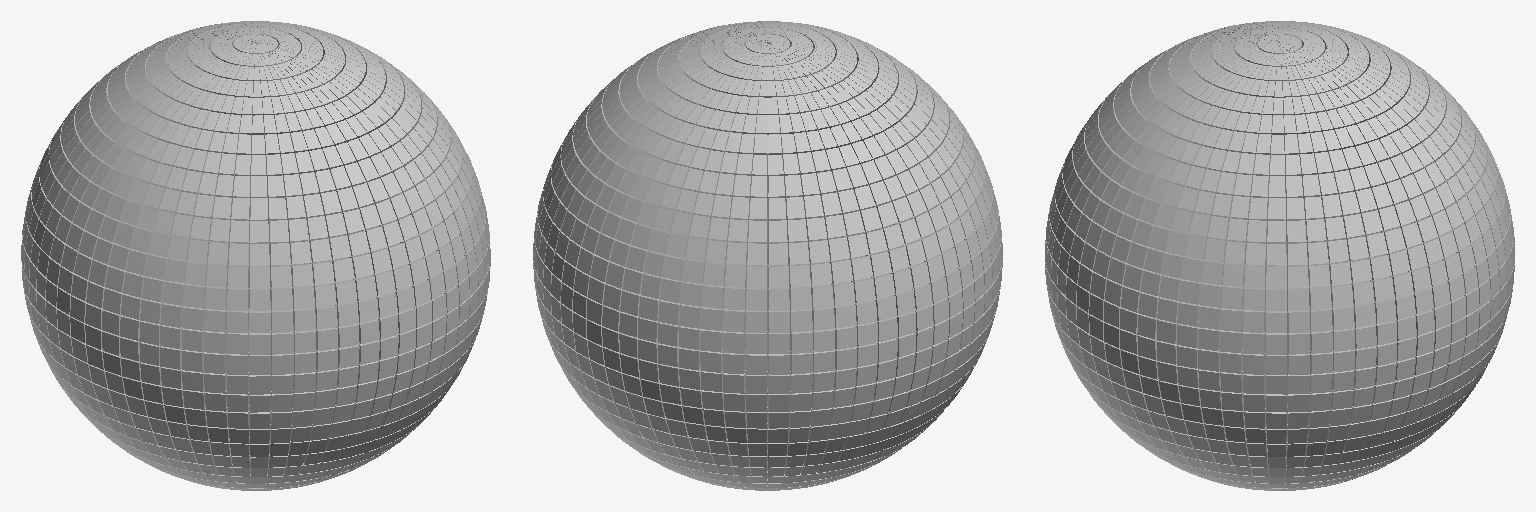
The model's file is Disco ball.obj.
The picture shows the model from 3 angles: view 1: azimuth 30°, elevation 25°; view 2: azimuth 150°, elevation 25°; view 3: azimuth 270°, elevation 25°; orthographic projection.
Parts seen in each view (by area): view 1: Sphere001; view 2: Sphere001; view 3: Sphere001.
Part boxes in pixels (x1,y1,x2,y2): Sphere001: (21, 21, 490, 490); Sphere001: (533, 21, 1002, 490); Sphere001: (1045, 21, 1514, 490).
Size of the model in its own units: 0.0158 by 0.0158 by 0.0158.